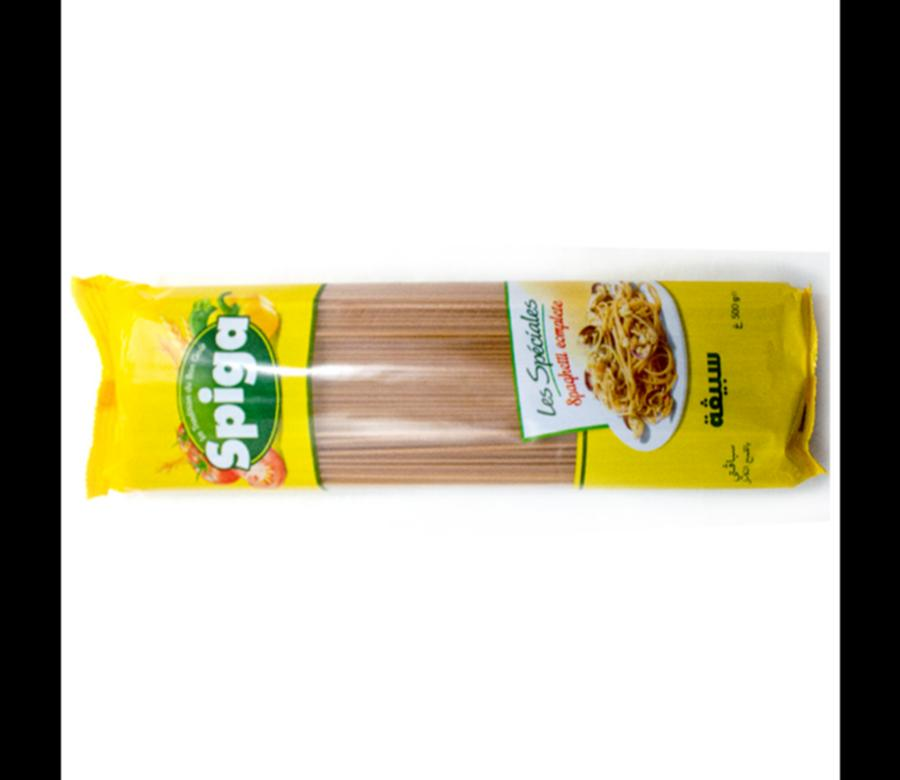Spaghetti: (94, 282, 814, 488)
